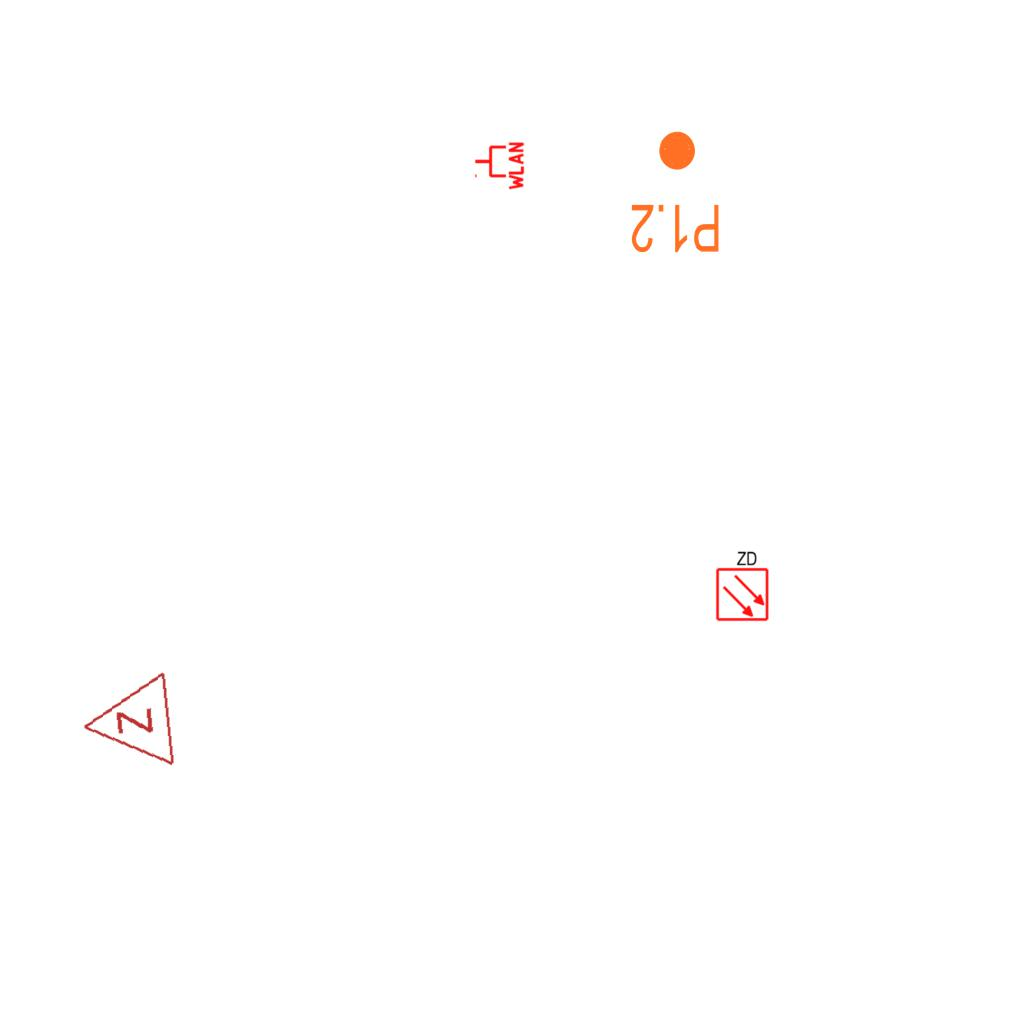Downlight_LED_Einbauleuchten_Flur: (629, 128, 722, 256)
WLAN: (473, 140, 525, 192)
ZD_Melder_in_Zwischendecke_mit_Revisionsoeffnung_mind_40_x_40_cm: (713, 548, 770, 622)
Zimmersignalleuchte: (72, 670, 182, 778)
